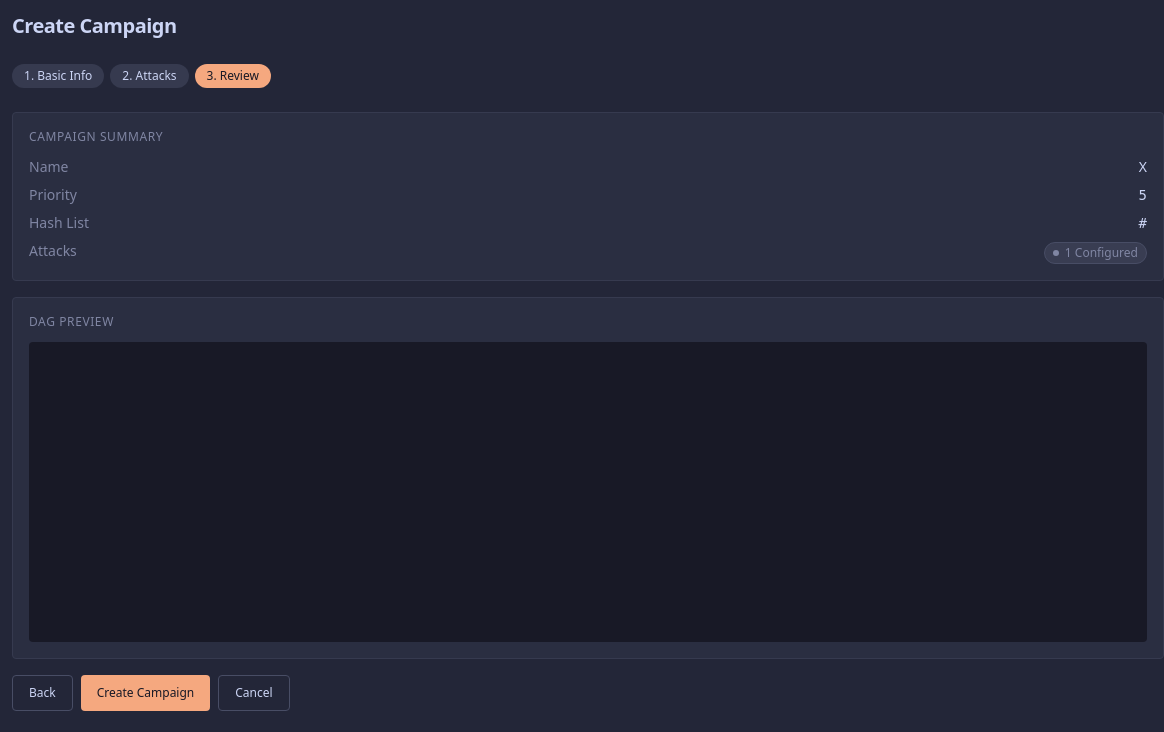
Test: CampaignCreatePage submit preflight › refuses to POST when hashListId is null (no `?? 0` sentinel)
The width and height of the screenshot is (1164, 732).
Click the button "Create Campaign" at (146, 693), box x1=81 y1=675 x2=210 y2=711
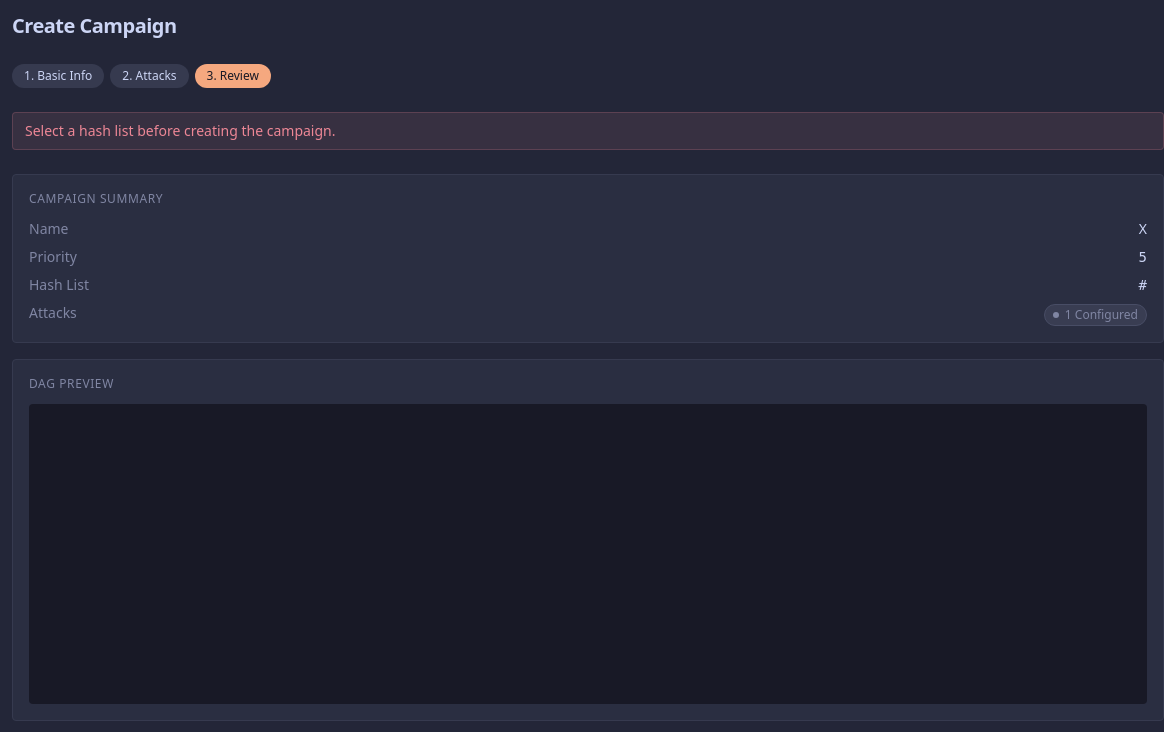
Expected: the text "Select a hash list before creating the campaign." is shown, x1=12 y1=112 x2=1163 y2=150
